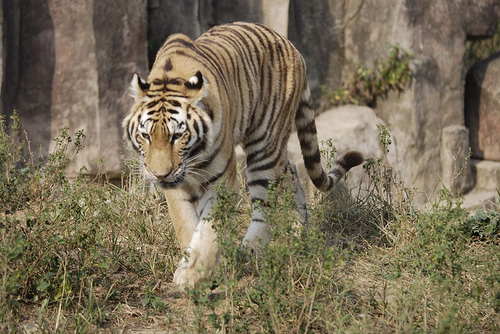Tigre: (120, 24, 362, 288)
